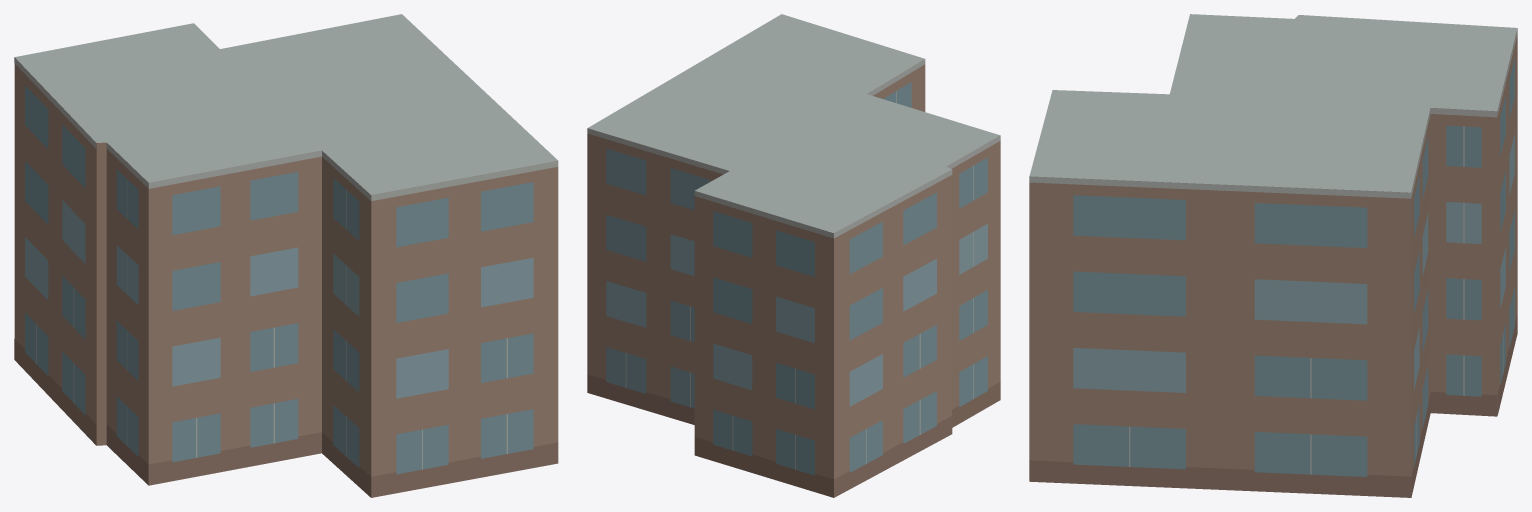
Rendered from survey-upis-32813833.glb.
The picture shows the model from 3 angles, left to right: view 1: azimuth 30°, elevation 25°; view 2: azimuth 150°, elevation 25°; view 3: azimuth 270°, elevation 25°; orthographic projection. The views are drawn at different scales.
Visible parts, largest first — view 1: survey-upis-32813833.tmp; view 2: survey-upis-32813833.tmp; view 3: survey-upis-32813833.tmp.
Part boxes in pixels (x1,y1,x2,y2): survey-upis-32813833.tmp: (14,14,558,497); survey-upis-32813833.tmp: (587,14,1000,497); survey-upis-32813833.tmp: (1029,14,1517,497).
Bounding box in the file's own units: 15.32 × 12.2 × 17.69.
